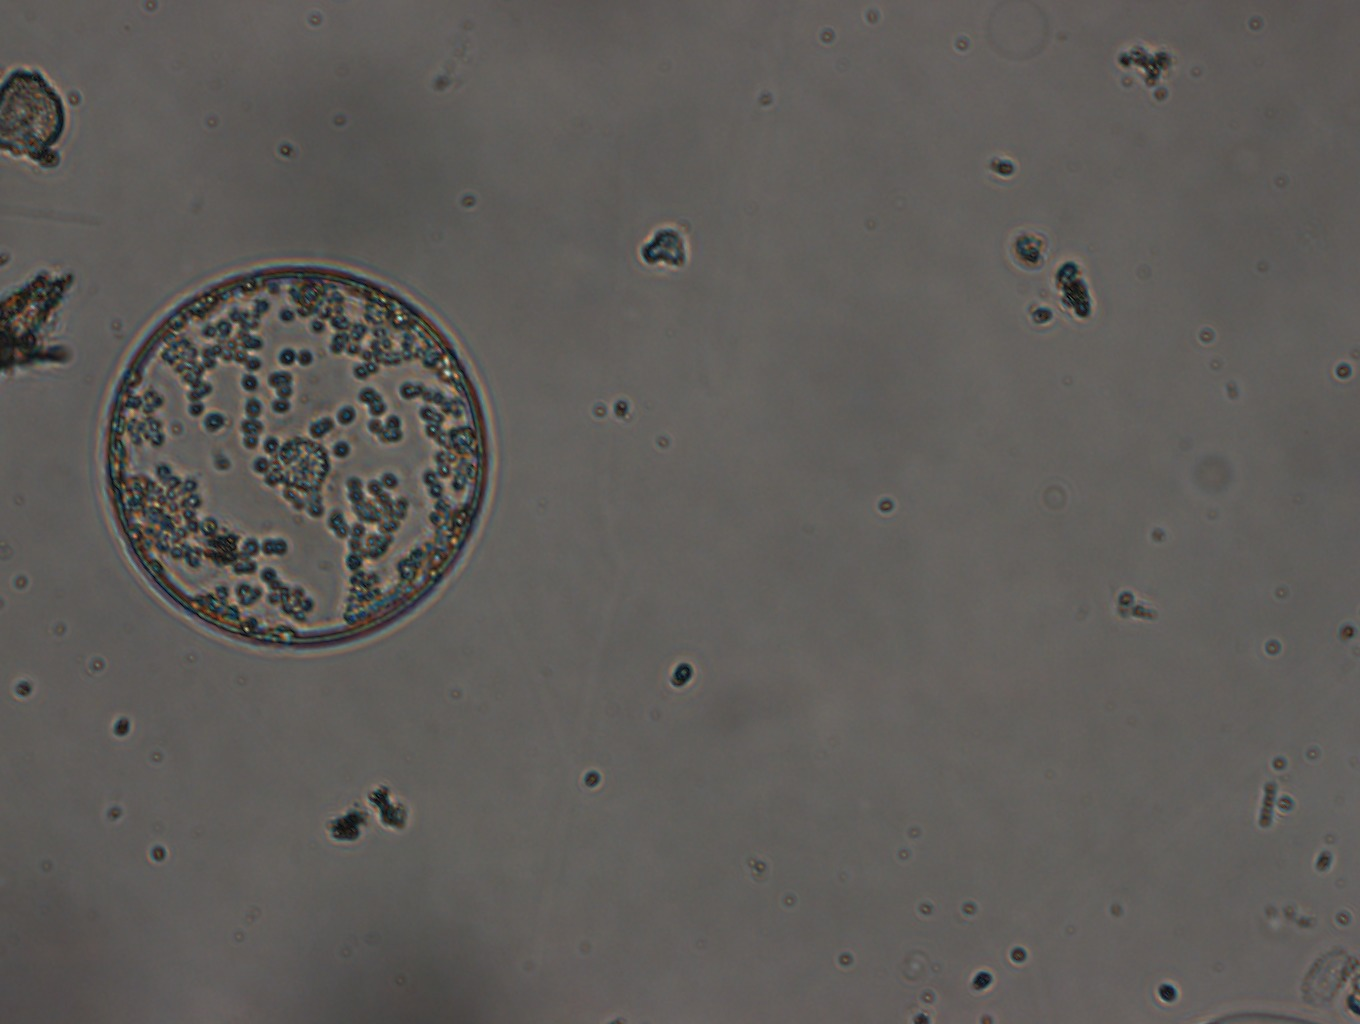coscinodiscus: (101, 259, 499, 665)
